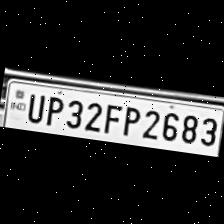2: (138, 104, 162, 140), (81, 98, 104, 133)
3: (61, 95, 84, 130), (196, 113, 219, 148)
6: (156, 107, 181, 143)
8: (176, 110, 200, 146)
F: (101, 99, 124, 135)
P: (40, 92, 64, 128), (117, 102, 141, 138)
U: (22, 90, 46, 124)
